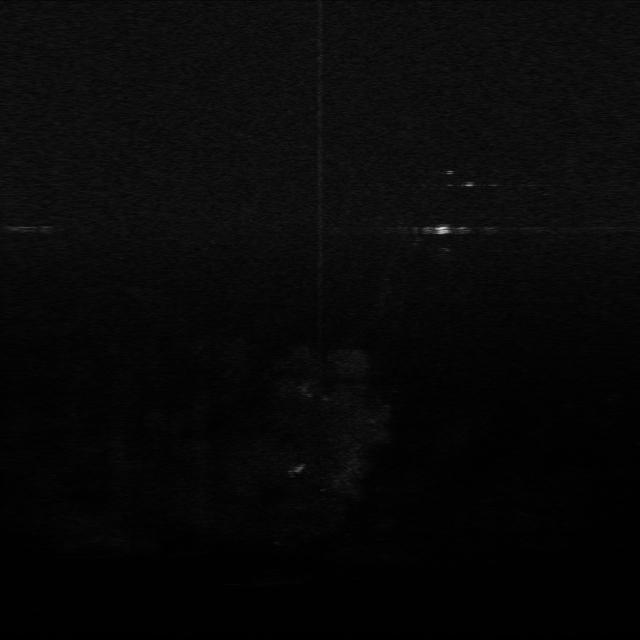rov: (431, 222, 453, 238)
